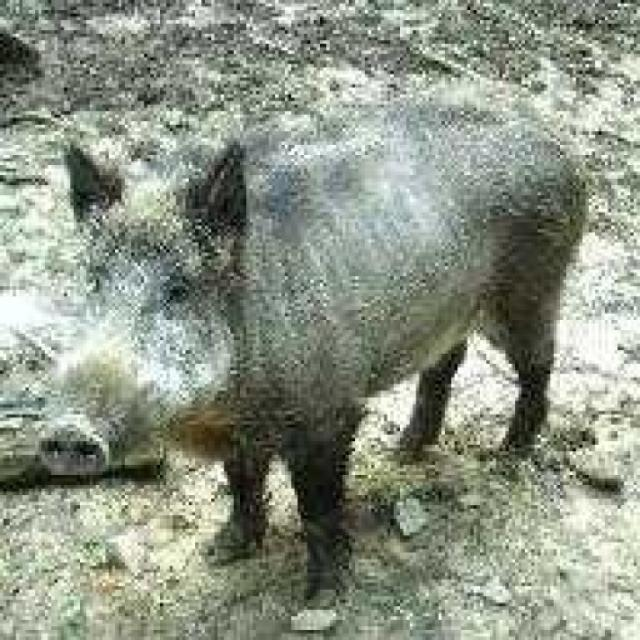pig: (51, 75, 618, 550)
